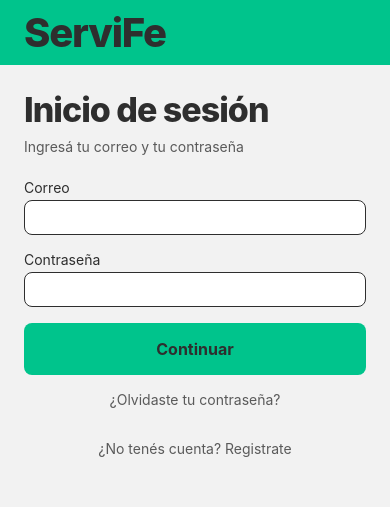
Test case: IngresarScreen › credenciales inválidas muestran el mensaje del backend
Type "ana@mail.com" into the field named "Correo" at point(195, 218), box [41,201,349,234]
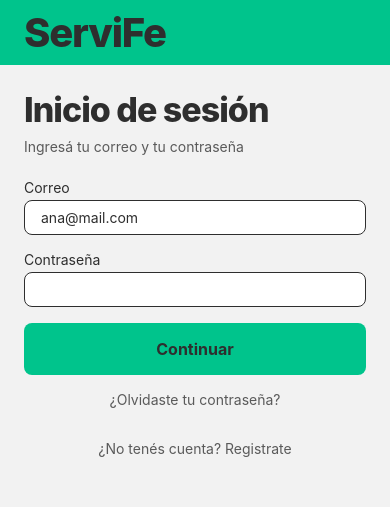
Type "mala" into the password field named "Contraseña" at point(195, 290), box [41,273,349,306]
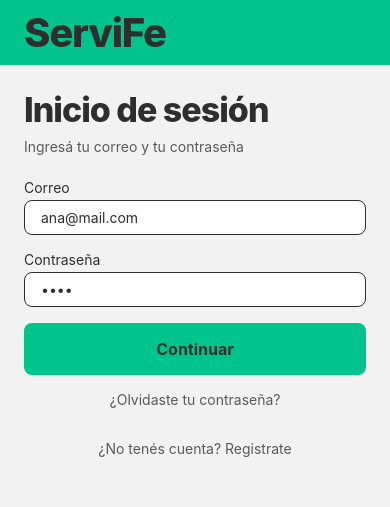
Click the button "Continuar" at point(195, 349), box [24,323,366,375]
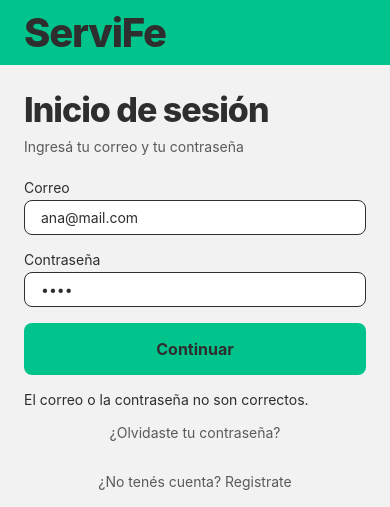
Expected: the text "El correo o la contraseña no son correctos." is shown, [24,391,309,408]
